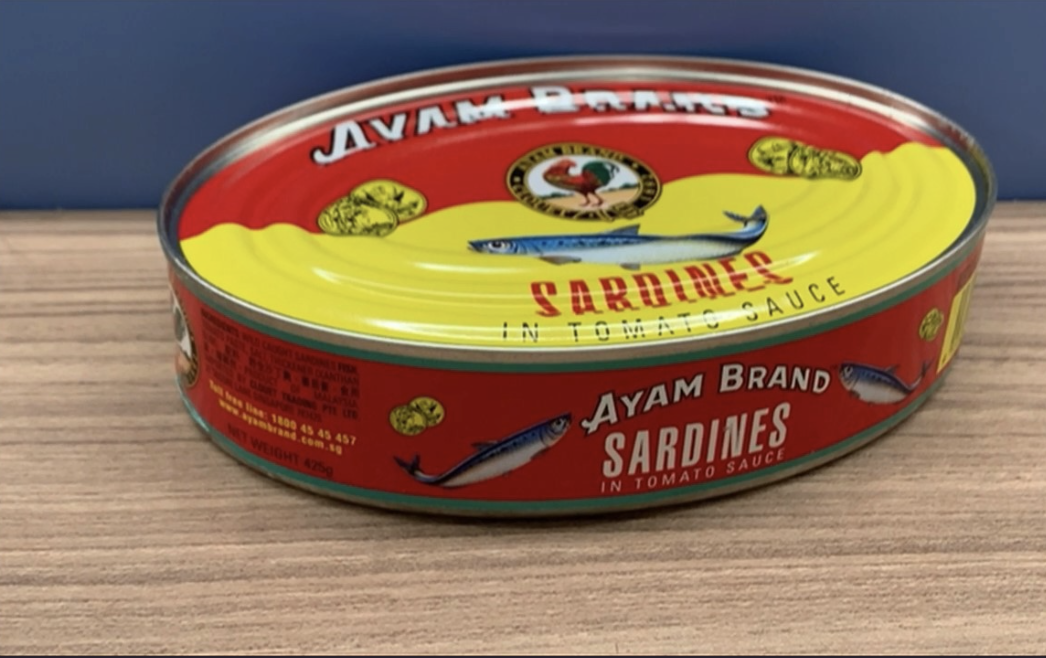sardines_400g-499g: (282, 85, 900, 482)
